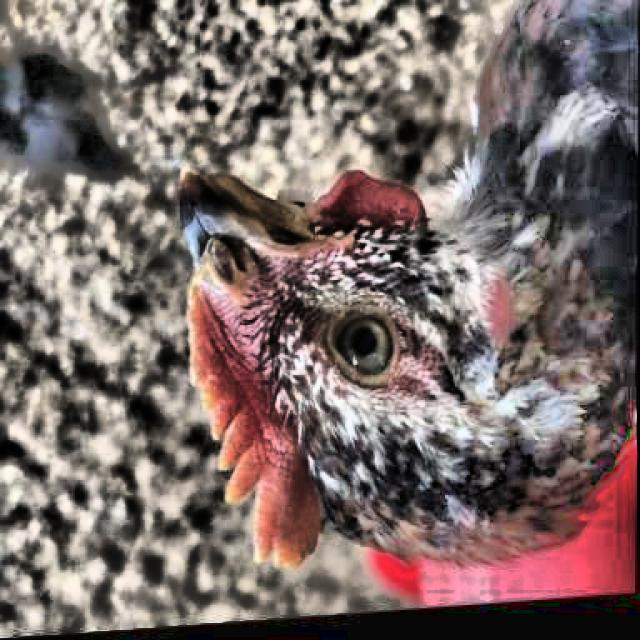Healthy: (294, 293, 428, 415)
